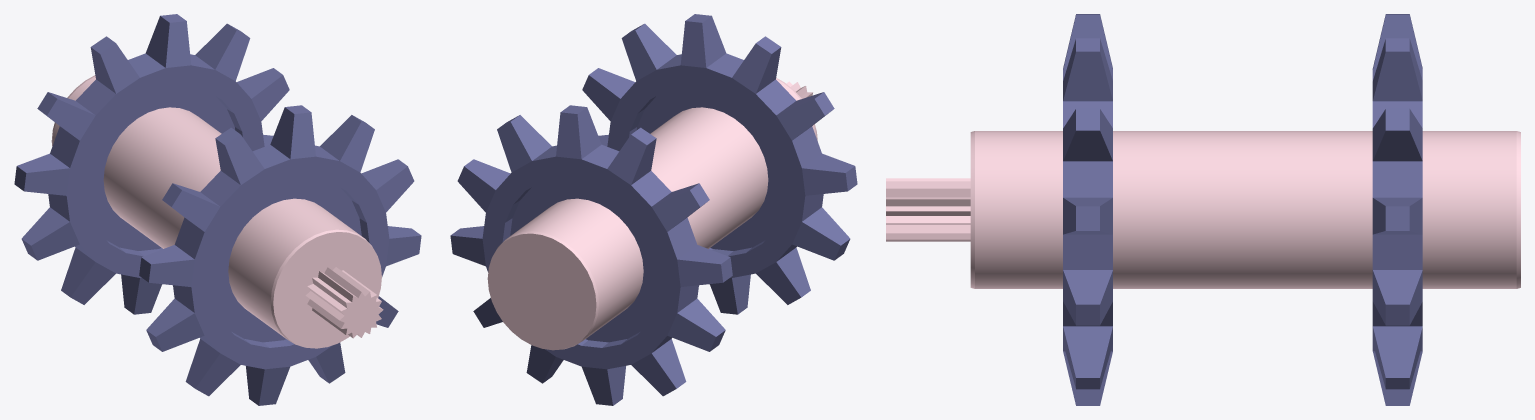
File: Gear_scene.dae
The picture shows the model from 3 angles, left to right: view 1: azimuth 30°, elevation 25°; view 2: azimuth 150°, elevation 25°; view 3: azimuth 270°, elevation 25°; orthographic projection. The views are drawn at different scales.
Visible parts, largest first — view 1: Group38557, Cylinder; view 2: Group38557, Cylinder; view 3: Cylinder, Group38557.
Part boxes in pixels (<box>): Group38557: <box>14,14,421,405</box>; Cylinder: <box>51,75,383,348</box>; Group38557: <box>450,14,857,405</box>; Cylinder: <box>487,78,817,350</box>; Cylinder: <box>886,131,1520,288</box>; Group38557: <box>1063,14,1422,405</box>.
Size of the model in its own units: 5.95 by 9.66 by 5.95.
